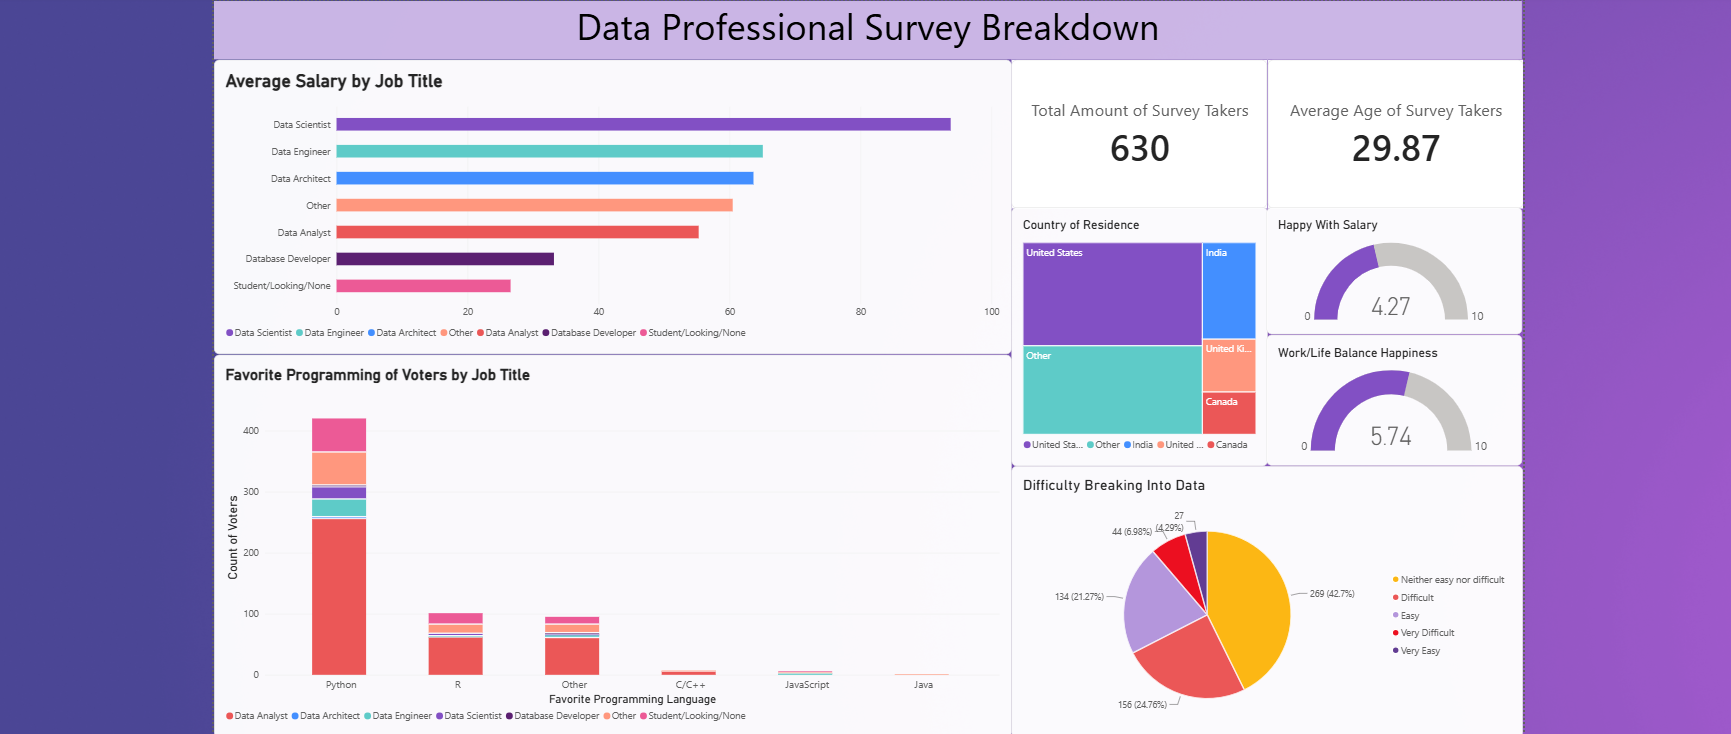

Layout of this report page (visuals, bound fields, positions):
{"tool":"powerbi","page":{"name":"Page 1","canvas":[1920,1080],"ordinal":0},"visuals":[{"type":"textbox","box":[0,0,1919.5,86],"z":0},{"type":"cardVisual","fields":{"Data":["Count(Data Professional Survey.Unique ID)"]},"box":[1170,86,375,218.2],"z":1000},{"type":"cardVisual","fields":{"Data":["Avg(Data Professional Survey.Q10 - Current Age)"]},"box":[1545.5,86.4,375,218.2],"z":2000},{"type":"barChart","title":"Average Salary by Job Title","fields":{"Category":["Data Professional Survey.Q1 - Which Title Best Fits your Current Role?.1"],"Series":["Data Professional Survey.Q1 - Which Title Best Fits your Current Role?.1"],"Y":["Avg(Data Professional Survey.Average Salary)"]},"box":[0,86,1170,432],"z":3000},{"type":"columnChart","title":"Favorite Programming of Voters by Job Title","fields":{"Category":["Data Professional Survey.Q5 - Favorite Programming Language.1"],"Series":["Data Professional Survey.Q1 - Which Title Best Fits your Current Role?.1"],"Y":["CountNonNull(Data Professional Survey.Unique ID)"]},"box":[0,518.3,1170,561.7],"z":4000},{"type":"treemap","title":"Country of Residence","fields":{"Group":["Data Professional Survey.Q11 - Which Country do you live in?.1"],"Values":["CountNonNull(Data Professional Survey.Q11 - Which Country do you live in?.1)"]},"box":[1170,302,376,380],"z":5000},{"type":"gauge","title":"Work/Life Balance Happiness","fields":{"MaxValue":["Max(Data Professional Survey.Q6 - How Happy are you in your Current Position with the following? (Work/Life Balance))"],"MinValue":["Min(Data Professional Survey.Q6 - How Happy are you in your Current Position with the following? (Work/Life Balance))"],"Y":["Avg(Data Professional Survey.Q6 - How Happy are you in your Current Position with the following? (Work/Life Balance))"]},"box":[1545,490,375,191.7],"z":6000},{"type":"gauge","title":"Happy With Salary","fields":{"MaxValue":["Max(Data Professional Survey.Q6 - How Happy are you in your Current Position with the following? (Salary))"],"MinValue":["Min(Data Professional Survey.Q6 - How Happy are you in your Current Position with the following? (Salary))"],"Y":["Avg(Data Professional Survey.Q6 - How Happy are you in your Current Position with the following? (Salary))"]},"box":[1545,303.3,375,186.7],"z":7000},{"type":"pieChart","title":"Difficulty Breaking Into Data","fields":{"Category":["Data Professional Survey.Q7 - How difficult was it for you to break into Data?"],"Y":["CountNonNull(Data Professional Survey.Q7 - How difficult was it for you to break into Data?)"]},"box":[1170,681.7,750,398.3],"z":8000}]}

Visuals, with their boxes on the page's 1920x1080 design canvas (x1, y1, x2, y2). These are canvas units, not pixel positions in the 1731x734 screenshot, which may show the page scaled, cropped or inside an application window:
textbox: left=0, top=0, right=1920, bottom=86
cardVisual - Count(Data Professional Survey.Unique ID): left=1170, top=86, right=1545, bottom=304
cardVisual - Avg(Data Professional Survey.Q10 - Current Age): left=1546, top=86, right=1920, bottom=305
"Average Salary by Job Title" barChart: left=0, top=86, right=1170, bottom=518
"Favorite Programming of Voters by Job Title" columnChart: left=0, top=518, right=1170, bottom=1080
"Country of Residence" treemap: left=1170, top=302, right=1546, bottom=682
"Work/Life Balance Happiness" gauge: left=1545, top=490, right=1920, bottom=682
"Happy With Salary" gauge: left=1545, top=303, right=1920, bottom=490
"Difficulty Breaking Into Data" pieChart: left=1170, top=682, right=1920, bottom=1080
